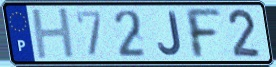2: (227, 7, 263, 60), (112, 9, 147, 59)
7: (73, 9, 104, 59)
F: (182, 7, 224, 61)
H: (29, 7, 78, 62)
J: (156, 10, 183, 57)
